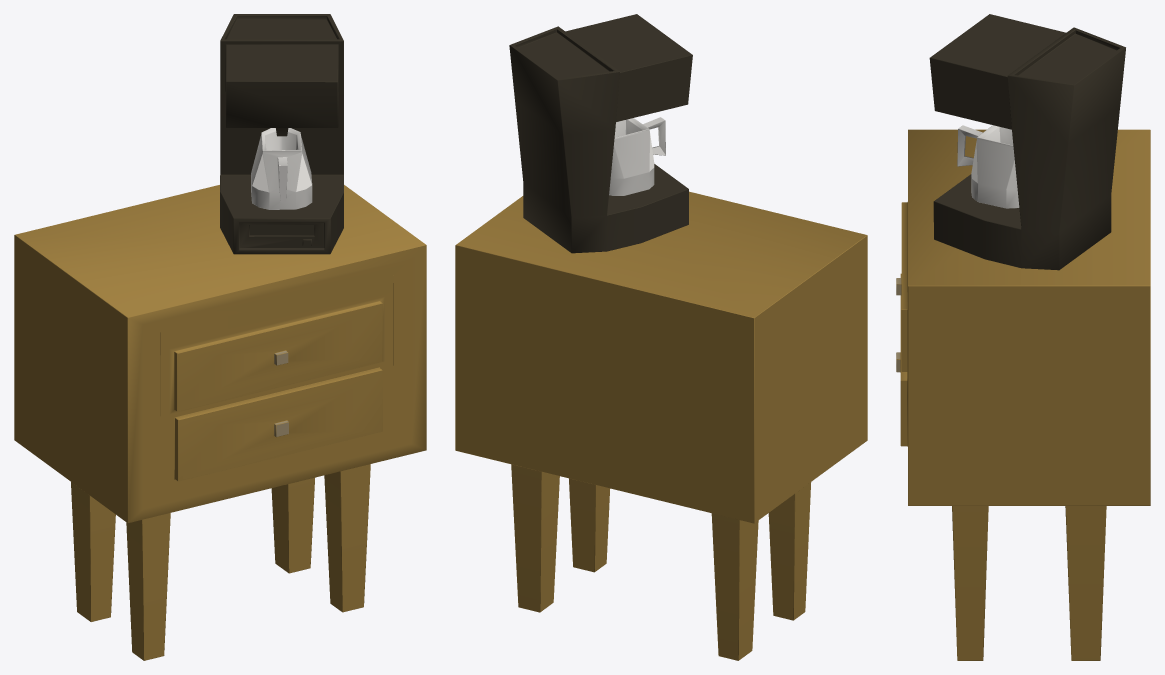
The model's file is Nightstand_Med_Kaffemaskine_3D_Model.fbx.
3 views of the same model, side by side, from view 1: azimuth 30°, elevation 25°; view 2: azimuth 150°, elevation 25°; view 3: azimuth 270°, elevation 25° (orthographic). The views are drawn at different scales.
Visible parts, largest first — view 1: Nightstand, Kaffemaskine_1; view 2: Nightstand, Kaffemaskine_1; view 3: Nightstand, Kaffemaskine_1.
Part boxes in pixels (box(x1,y1,x2,y2)): Nightstand: box(14, 185, 426, 660); Kaffemaskine_1: box(220, 14, 343, 254); Nightstand: box(455, 191, 867, 660); Kaffemaskine_1: box(509, 14, 692, 253); Nightstand: box(896, 129, 1150, 660); Kaffemaskine_1: box(929, 14, 1125, 270).
Bounding box in the file's own units: 4.96 × 8.69 × 3.42.
